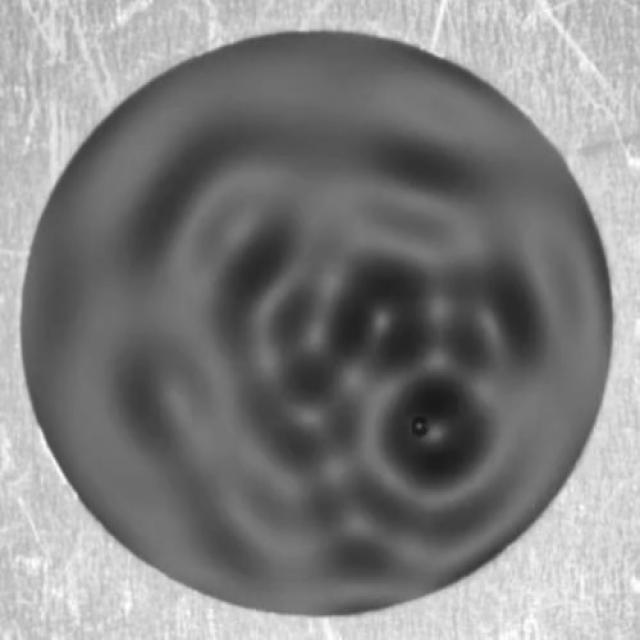droplet: (413, 418, 429, 440)
